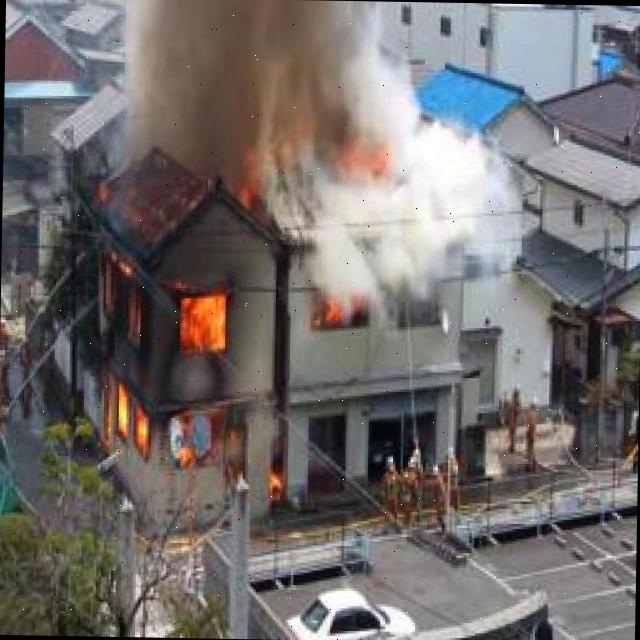fire: (84, 237, 294, 512), (314, 289, 380, 332)
